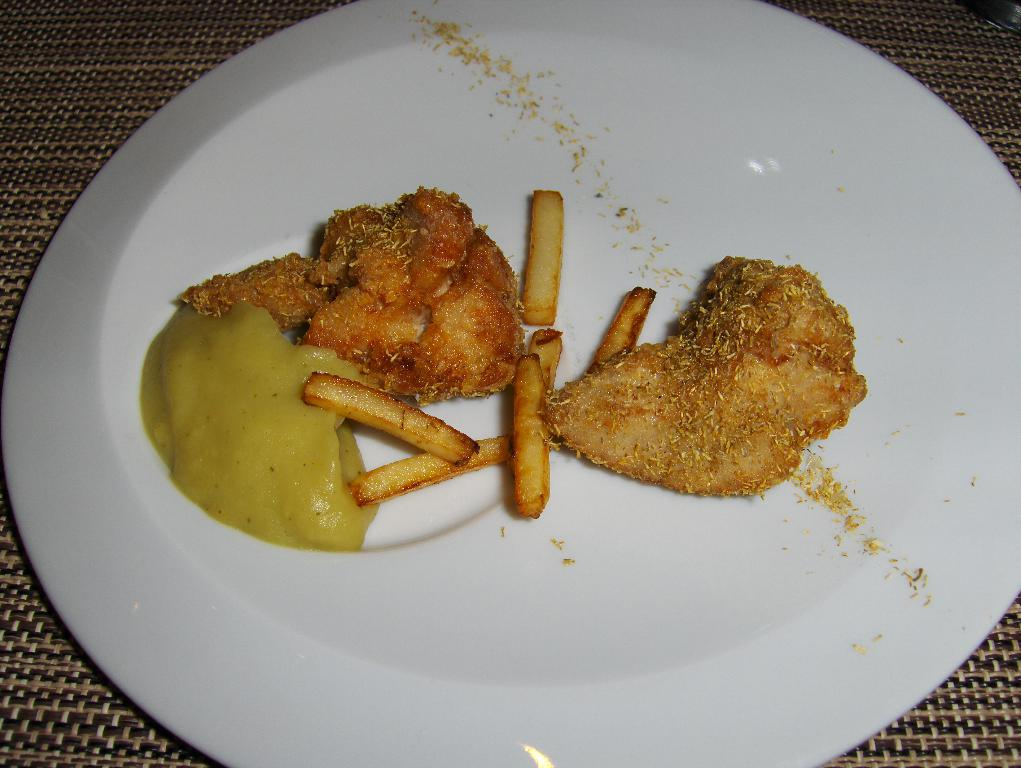French fries: (303, 176, 659, 527)
